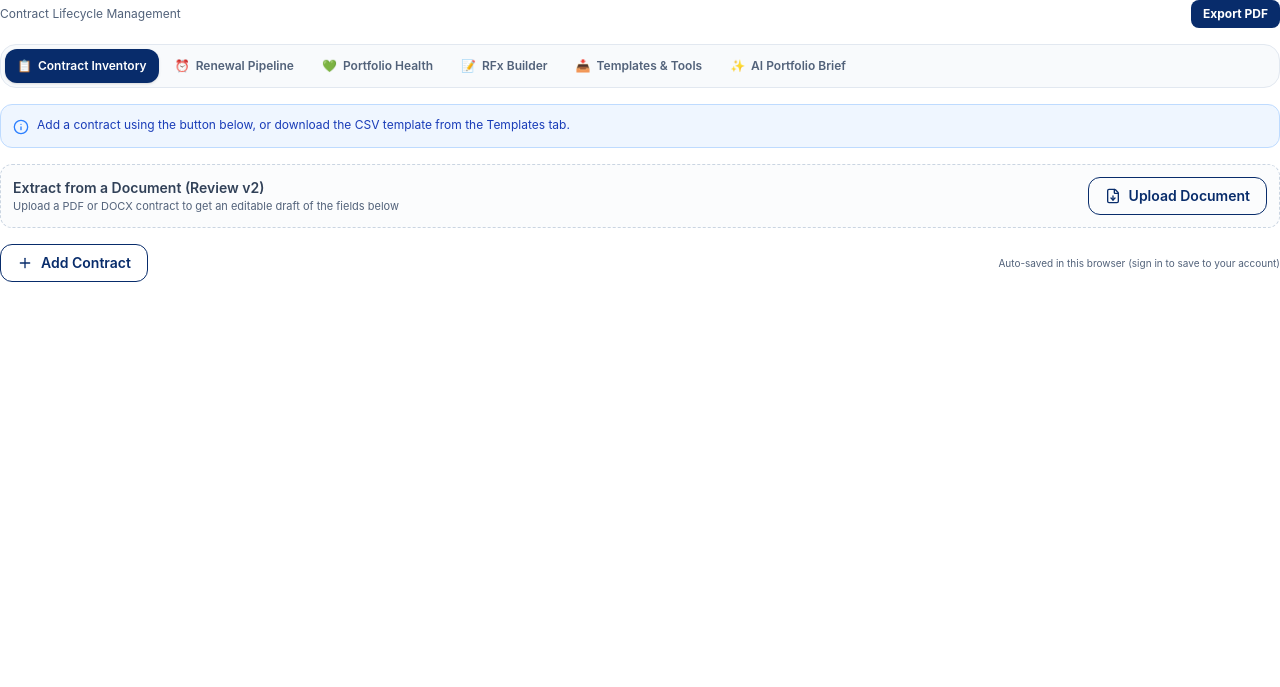
NDA Skeleton -- Additional Stakeholders (item 50) › renders the Additional Stakeholders section once contract type is set to NDA
Click the button "Add Contract" at point(74, 263), box [0, 244, 148, 282]
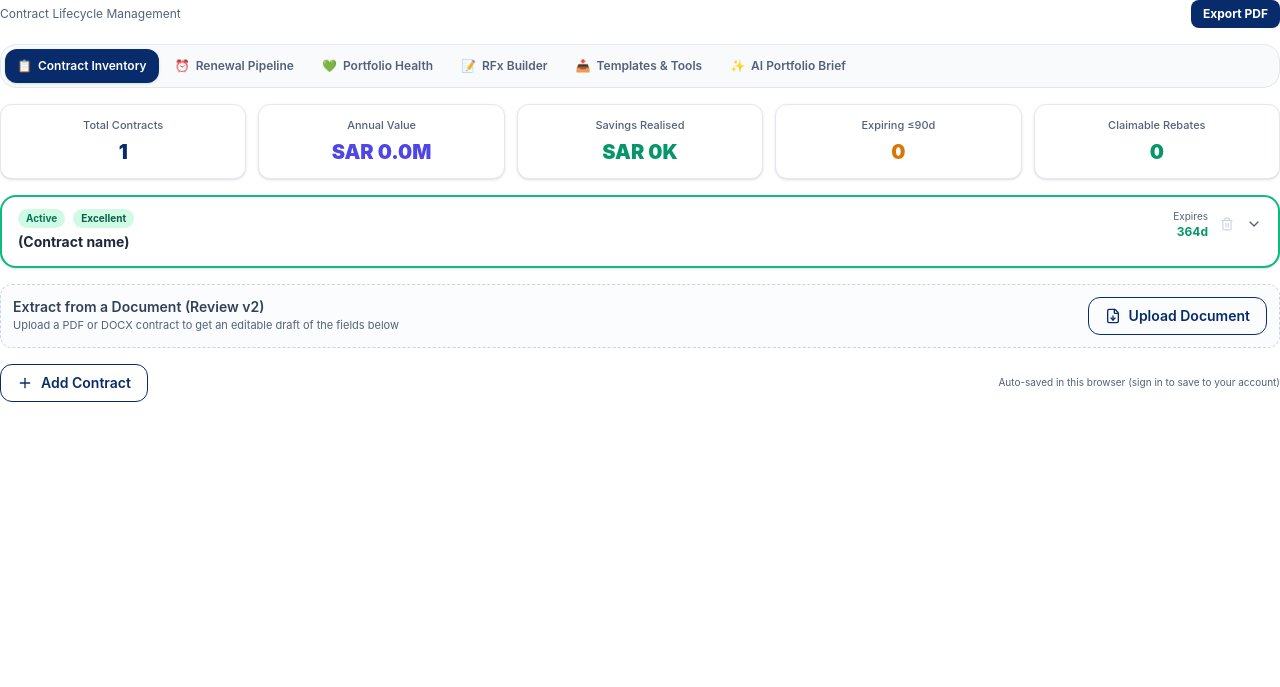
Click the text "(Contract name)" at point(74, 241), box [18, 232, 130, 250]
(page scrolled)
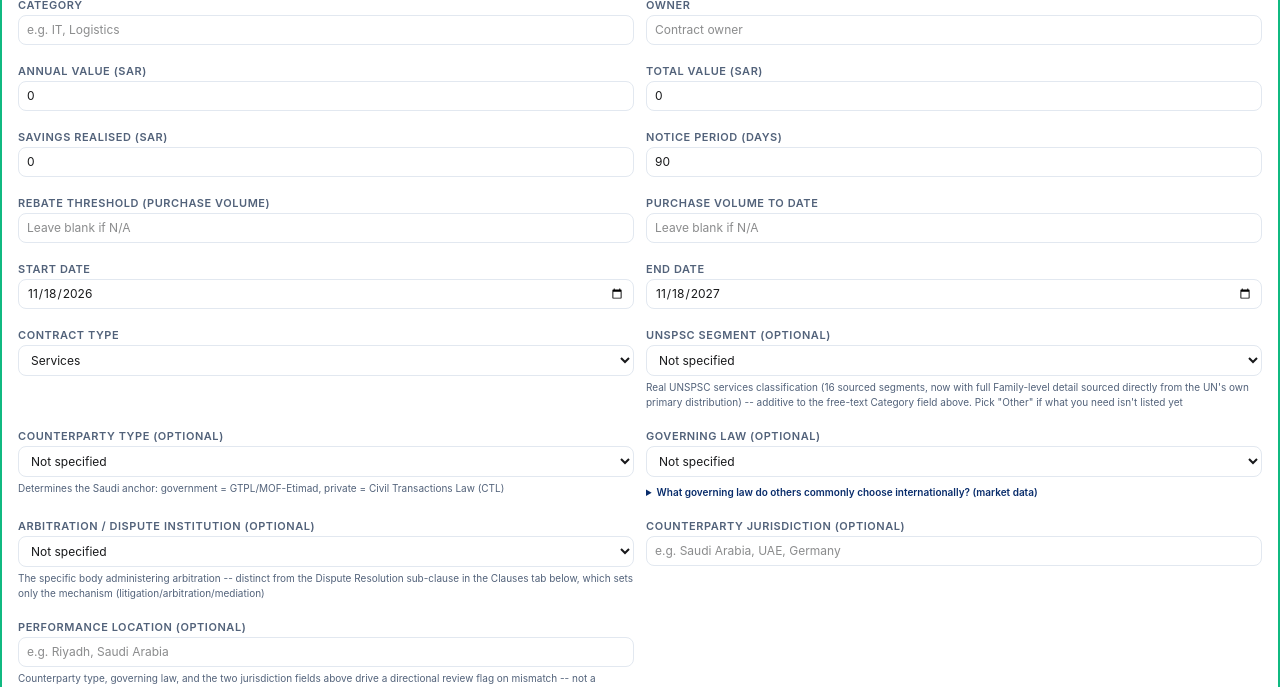
Select "Non-Disclosure Agreement" in the dropdown showing "Services" below "Contract Type" at point(326, 360), box [18, 344, 634, 376]
(page scrolled)
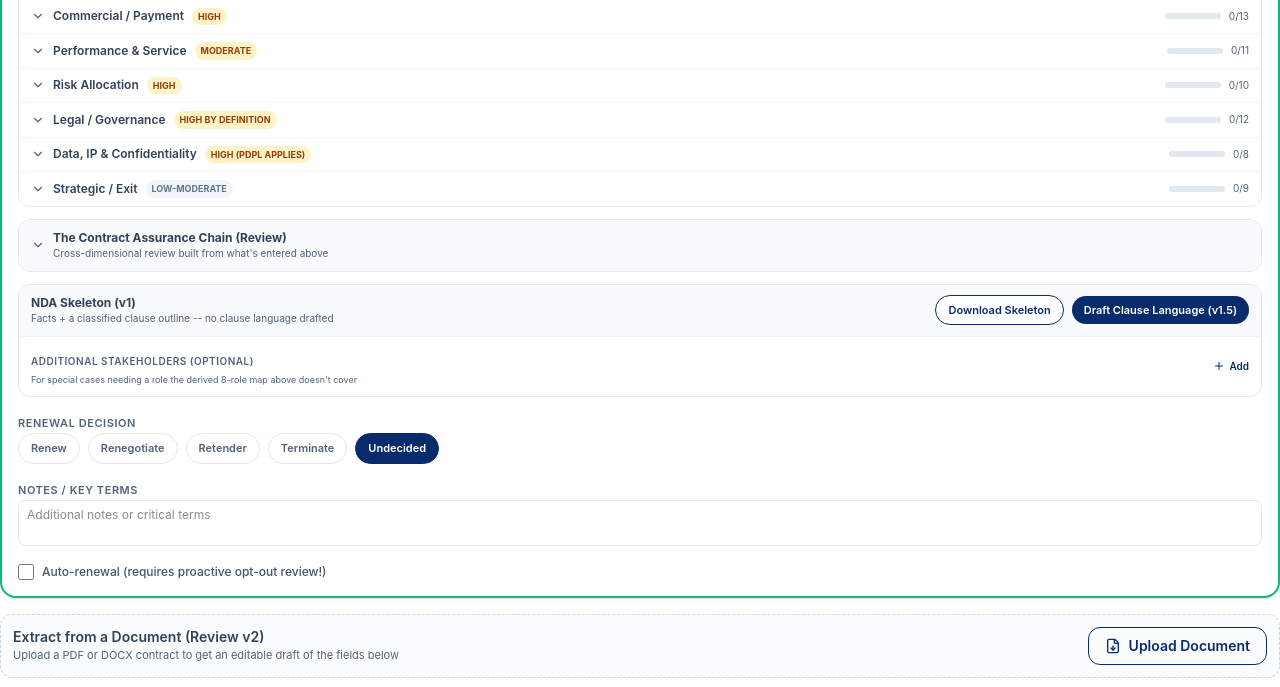
Now the text "Additional Stakeholders (optional)" is shown, box [31, 354, 254, 366]
